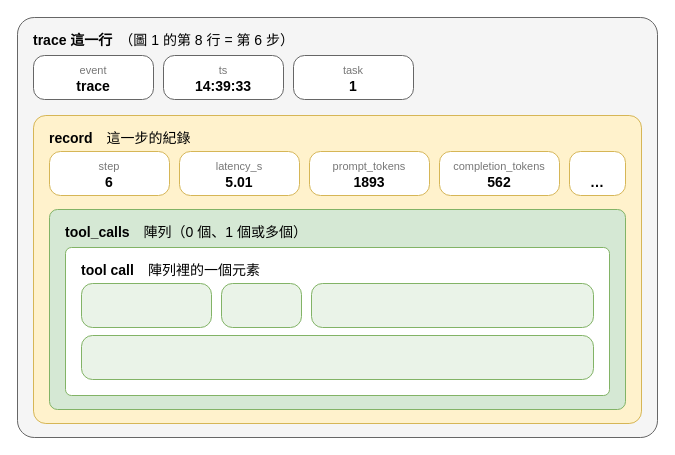
The diagram is 675 pixels wide and 455 high, and some of its shapes have lost their labels. Here are the shapes that lost their labels. From the top down, the centre of each, then its label:
pixel 146 305: name edit_file
pixel 261 305: ok true
pixel 452 305: args path / old_string / new_string
pixel 337 357: output edited timelog/parser.py
